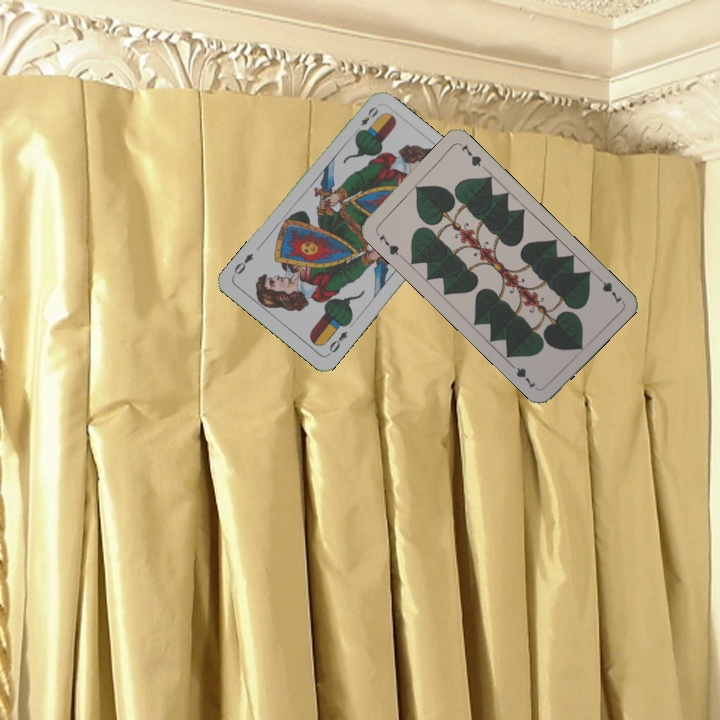EO: (350, 102, 381, 137), (323, 327, 350, 358)
G7: (592, 272, 625, 306), (372, 228, 404, 260)
